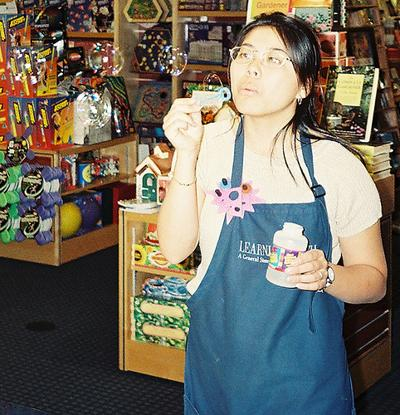person: (151, 11, 392, 411)
